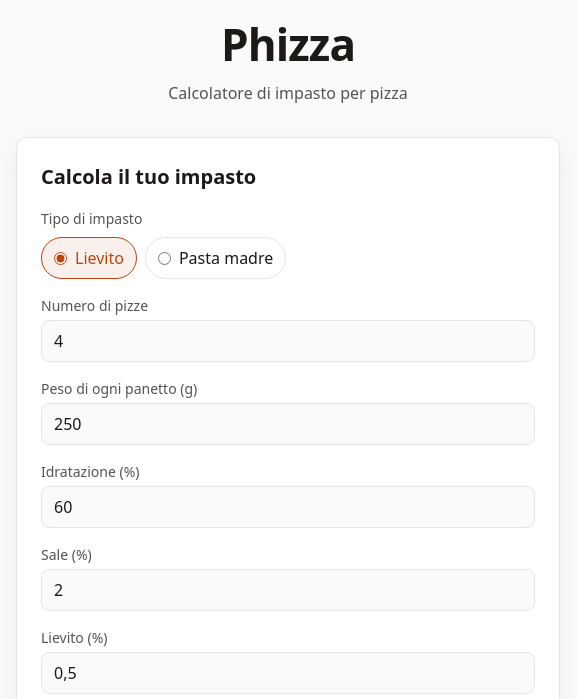
Scenario: App › shows the invalid-input error when the core rejects the values
This screenshot has width=577, height=699.
Replace the text in the field labelled "Numero di pizze" with "0" at (288, 341), box x1=41 y1=320 x2=535 y2=362
(page scrolled)
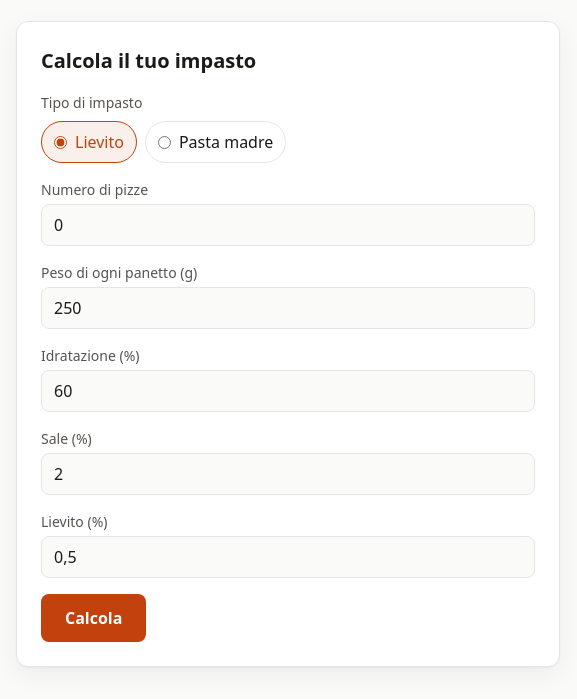
Click the button "Calcola" at (94, 618), box x1=41 y1=594 x2=146 y2=642
(page scrolled)
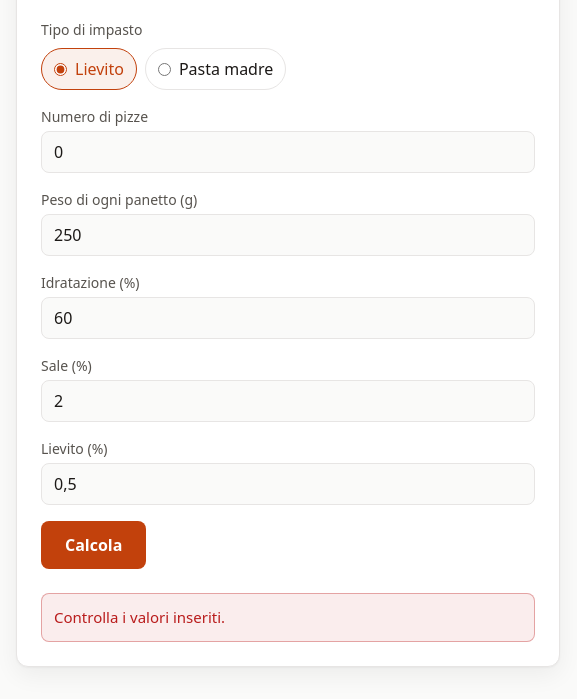
Expected: the message reads "Controlla i valori inseriti.", x1=54 y1=607 x2=225 y2=627
